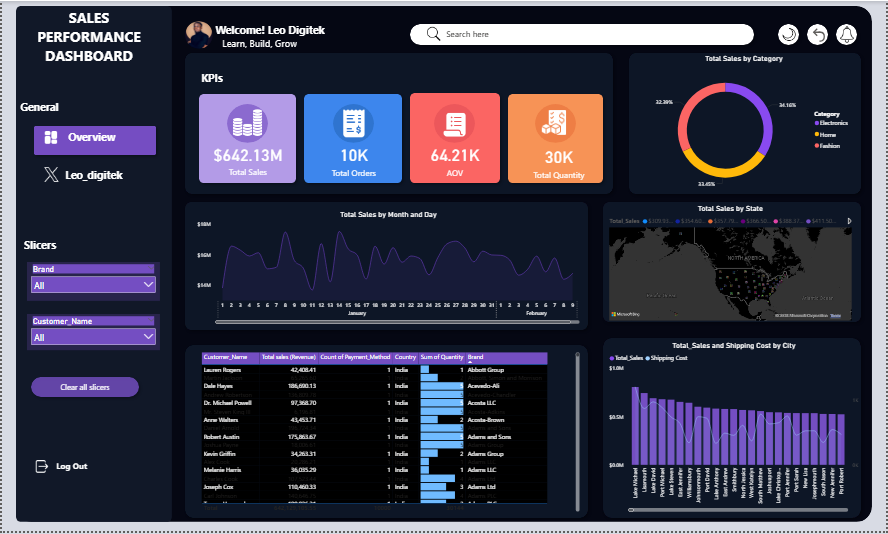

The dashboard page shown, as its layout file describes it:
{"tool":"powerbi","page":{"name":"Page 1","canvas":[2000,1200],"ordinal":0},"visuals":[{"type":"shape","box":[31.7,11.3,1938.1,1168.3],"z":0},{"type":"shape","box":[31.7,11.3,353.2,1168.3],"z":1000},{"type":"shape","box":[405.3,108.7,987.2,337.4],"z":2000},{"type":"shape","box":[1410.6,108.7,543.4,337.4],"z":3000},{"type":"shape","box":[405.3,446,930.6,307.9],"z":4000},{"type":"shape","box":[405.3,769.8,930.6,409.8],"z":5000},{"type":"shape","box":[1351.7,446,602.3,289.8],"z":6000},{"type":"shape","box":[1351.7,754,602.3,425.7],"z":7000},{"type":"shape","box":[437,201.5,237.7,219.6],"z":8000},{"type":"shape","box":[674.7,201.5,240,219.6],"z":9000},{"type":"shape","box":[914.7,199.2,221.9,221.9],"z":10000},{"type":"shape","box":[1136.6,201.5,233.2,219.6],"z":11000},{"type":"shape","box":[914.7,43,797,65.7],"z":12000},{"type":"shape","box":[1747.9,43,65.7,65.7],"z":13000},{"type":"shape","box":[1813.6,43,65.7,65.7],"z":14000},{"type":"shape","box":[1879.2,43,65.7,65.7],"z":15000},{"type":"card","fields":{"Values":["Sum(Amazon_e_commerce_cleaned.Total_Sales)"]},"box":[446,310.2,221.9,95.1],"z":16000},{"type":"card","fields":{"Values":["Amazon_e_commerce_cleaned.Count of OrderID"]},"box":[695.1,312.5,203.8,92.8],"z":17000},{"type":"card","fields":{"Values":["Amazon_e_commerce_cleaned.AOV"]},"box":[930.6,312.5,190.2,92.8],"z":18000},{"type":"card","fields":{"Values":["Sum(Amazon_e_commerce_cleaned.Quantity)"]},"box":[1152.5,312.5,217.4,101.9],"z":19000},{"type":"lineChart","fields":{"Category":["Amazon_e_commerce_cleaned.Order_Date.Variation.Date Hierarchy.Month","Amazon_e_commerce_cleaned.Order_Date.Variation.Date Hierarchy.Day"],"Y":["Sum(Amazon_e_commerce_cleaned.Total_Sales)"]},"box":[437,473.2,876.2,262.6],"z":20000},{"type":"tableEx","fields":{"Values":["Amazon_e_commerce_cleaned.Customer_Name","Amazon_e_commerce_cleaned.Total sales (Revenue)","CountNonNull(Amazon_e_commerce_cleaned.Payment_Method)","Amazon_e_commerce_cleaned.Country","Sum(Amazon_e_commerce_cleaned.Quantity)","Amazon_e_commerce_cleaned.Brand"]},"box":[446,790.2,867.2,371.3],"z":21000},{"type":"lineStackedColumnComboChart","fields":{"Category":["Amazon_e_commerce_cleaned.City"],"Y":["Sum(Amazon_e_commerce_cleaned.Total_Sales)"],"Y2":["Sum(Amazon_e_commerce_cleaned.Shipping_Cost)"]},"box":[1369.8,769.8,575.1,391.7],"z":22000},{"type":"map","title":"Total Sales by State","fields":{"Category":["Amazon_e_commerce_cleaned.State"],"Series":["Amazon_e_commerce_cleaned.Total_Sales"]},"box":[1369.8,459.6,559.2,269.4],"z":23000},{"type":"donutChart","fields":{"Category":["Amazon_e_commerce_cleaned.Category"],"Y":["Sum(Amazon_e_commerce_cleaned.Total_Sales)"]},"box":[1430.9,120,498.1,326],"z":24000},{"type":"image","box":[1766,54.3,31.7,43],"z":25000},{"type":"image","box":[1895.1,54.3,36.2,43],"z":26000},{"type":"slicer","fields":{"Values":["Amazon_e_commerce_cleaned.Customer_Name"]},"box":[56.6,708.7,301.1,81.5],"z":27000},{"type":"slicer","fields":{"Values":["Amazon_e_commerce_cleaned.Brand"]},"box":[56.6,590.9,301.1,88.3],"z":28000},{"type":"textbox","box":[31.7,529.8,221.9,43],"z":29000},{"type":"shape","box":[56.6,842.3,262.6,63.4],"z":30000},{"type":"actionButton","box":[88.3,842.3,199.2,63.4],"z":31000},{"type":"textbox","box":[36.2,217.4,301.1,43],"z":32000},{"type":"shape","box":[1206.8,233.2,92.8,88.3],"z":33000},{"type":"shape","box":[978.1,233.2,92.8,88.3],"z":34000},{"type":"shape","box":[749.4,233.2,92.8,88.3],"z":35000},{"type":"shape","box":[509.4,233.2,92.8,88.3],"z":36000},{"type":"image","box":[1218.1,240,63.4,70.2],"z":37000},{"type":"image","box":[989.4,249.1,72.5,63.4],"z":38000},{"type":"image","box":[760.8,233.2,72.5,88.3],"z":39000},{"type":"image","box":[523,235.5,65.7,77],"z":40000},{"type":"shape","box":[63.4,274,294.3,83.8],"z":41000},{"type":"image","box":[83.8,289.8,54.3,38.5],"z":42000},{"type":"textbox","box":[138.1,285.3,219.6,54.3],"z":43000},{"type":"image","box":[414.3,45.3,63.4,63.4],"z":44000},{"type":"textbox","box":[477.7,43,355.5,54.3],"z":45000},{"type":"actionButton","box":[1829.4,56.6,49.8,40.8],"z":46000},{"type":"textbox","box":[446,151.7,217.4,47.5],"z":47000},{"type":"textbox","box":[493.6,77,267.2,43],"z":48000},{"type":"shape","box":[31.7,11.3,353.2,165.3],"z":49000},{"type":"textbox","box":[56.6,9.1,280.8,167.5],"z":50000},{"type":"image","box":[953.2,56.6,47.5,36.2],"z":51000},{"type":"image","box":[63.4,1034.7,54.3,38.5],"z":52000},{"type":"textbox","box":[117.7,1034.7,201.5,77],"z":53000},{"type":"textbox","box":[1000.8,56.6,298.9,36.2],"z":53001},{"type":"image","box":[63.4,371.3,97.4,43],"z":53002},{"type":"textbox","box":[138.1,371.3,219.6,43],"z":53003}]}

Visuals, with their boxes in screenshot pixels (x1, y1, x2, y2), scaled from the page's 2000x1200 canvas onto the 888x534 screenshot:
shape: rect(14, 5, 875, 525)
shape: rect(14, 5, 171, 525)
shape: rect(180, 48, 618, 199)
shape: rect(626, 48, 868, 199)
shape: rect(180, 198, 593, 335)
shape: rect(180, 343, 593, 525)
shape: rect(600, 198, 868, 327)
shape: rect(600, 336, 868, 525)
shape: rect(194, 90, 300, 187)
shape: rect(300, 90, 406, 187)
shape: rect(406, 89, 505, 187)
shape: rect(505, 90, 608, 187)
shape: rect(406, 19, 760, 48)
shape: rect(776, 19, 805, 48)
shape: rect(805, 19, 834, 48)
shape: rect(834, 19, 864, 48)
card - Sum(Amazon_e_commerce_cleaned.Total_Sales): rect(198, 138, 297, 180)
card - Amazon_e_commerce_cleaned.Count of OrderID: rect(309, 139, 399, 180)
card - Amazon_e_commerce_cleaned.AOV: rect(413, 139, 498, 180)
card - Sum(Amazon_e_commerce_cleaned.Quantity): rect(512, 139, 608, 184)
lineChart - Amazon_e_commerce_cleaned.Order_Date.Variation.Date Hierarchy.Month x Amazon_e_commerce_cleaned.Order_Date.Variation.Date Hierarchy.Day: rect(194, 211, 583, 327)
tableEx - Amazon_e_commerce_cleaned.Customer_Name x Amazon_e_commerce_cleaned.Total sales (Revenue): rect(198, 352, 583, 517)
lineStackedColumnComboChart - Amazon_e_commerce_cleaned.City x Sum(Amazon_e_commerce_cleaned.Total_Sales): rect(608, 343, 864, 517)
"Total Sales by State" map: rect(608, 205, 856, 324)
donutChart - Amazon_e_commerce_cleaned.Category x Sum(Amazon_e_commerce_cleaned.Total_Sales): rect(635, 53, 856, 198)
image: rect(784, 24, 798, 43)
image: rect(841, 24, 857, 43)
slicer - Amazon_e_commerce_cleaned.Customer_Name: rect(25, 315, 159, 352)
slicer - Amazon_e_commerce_cleaned.Brand: rect(25, 263, 159, 302)
textbox: rect(14, 236, 113, 255)
shape: rect(25, 375, 142, 403)
actionButton: rect(39, 375, 128, 403)
textbox: rect(16, 97, 150, 116)
shape: rect(536, 104, 577, 143)
shape: rect(434, 104, 475, 143)
shape: rect(333, 104, 374, 143)
shape: rect(226, 104, 267, 143)
image: rect(541, 107, 569, 138)
image: rect(439, 111, 471, 139)
image: rect(338, 104, 370, 143)
image: rect(232, 105, 261, 139)
shape: rect(28, 122, 159, 159)
image: rect(37, 129, 61, 146)
textbox: rect(61, 127, 159, 151)
image: rect(184, 20, 212, 48)
textbox: rect(212, 19, 370, 43)
actionButton: rect(812, 25, 834, 43)
textbox: rect(198, 68, 295, 89)
textbox: rect(219, 34, 338, 53)
shape: rect(14, 5, 171, 79)
textbox: rect(25, 4, 150, 79)
image: rect(423, 25, 444, 41)
image: rect(28, 460, 52, 478)
textbox: rect(52, 460, 142, 495)
textbox: rect(444, 25, 577, 41)
image: rect(28, 165, 71, 184)
textbox: rect(61, 165, 159, 184)
